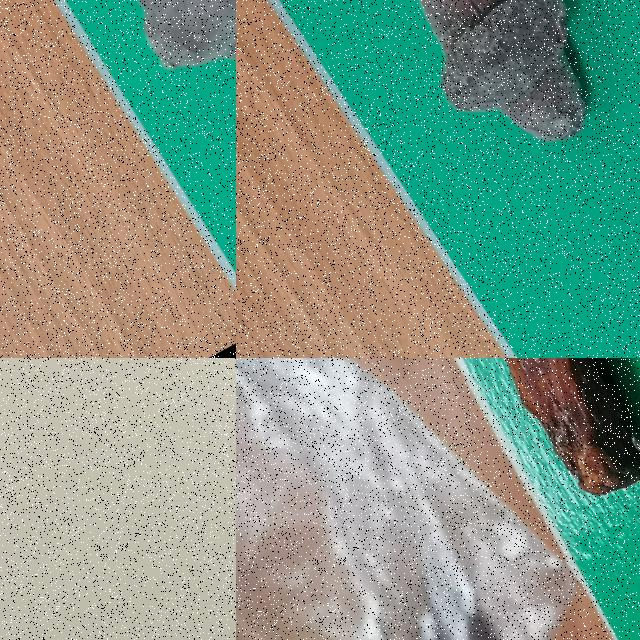Agglomerated_cocoabeans: (280, 0, 639, 256), (0, 0, 235, 178)
Fine_cocoabeans: (181, 358, 235, 639)
Flat_cocoabeans: (313, 358, 639, 639)
